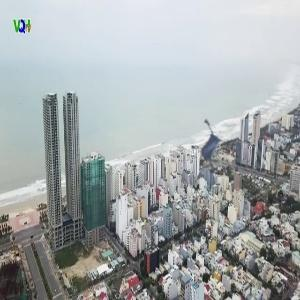drone: (185, 125, 246, 186)
